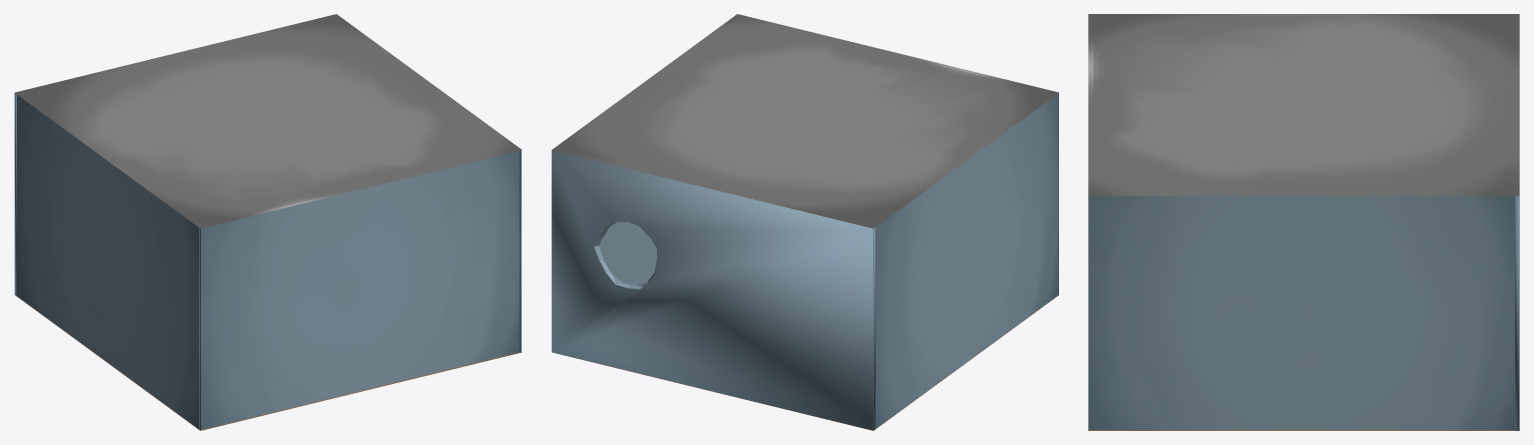
File: sala2.fbx
The picture shows the model from 3 angles, left to right: view 1: azimuth 30°, elevation 25°; view 2: azimuth 150°, elevation 25°; view 3: azimuth 270°, elevation 25°; orthographic projection. The views are drawn at different scales.
Visible parts, largest first — view 1: PSur, Techo, POeste, Suelo, PNorte; view 2: PNorte, Techo, POeste, PEste; view 3: PEste, Techo, PNorte, Suelo.
Boxes of the visible parts, x1,y1,x2,y2 form: PSur: (199, 150, 521, 430); Techo: (15, 14, 521, 228); POeste: (17, 94, 200, 430); Suelo: (17, 296, 521, 430); PNorte: (14, 93, 16, 296); PNorte: (551, 150, 875, 430); Techo: (552, 14, 1058, 228); POeste: (873, 93, 1058, 430); PEste: (553, 151, 656, 352); PEste: (1088, 196, 1519, 429); Techo: (1088, 14, 1519, 196); PNorte: (1515, 196, 1519, 430); Suelo: (1088, 430, 1519, 430).
Size of the model in its own units: 500 by 300 by 500.
